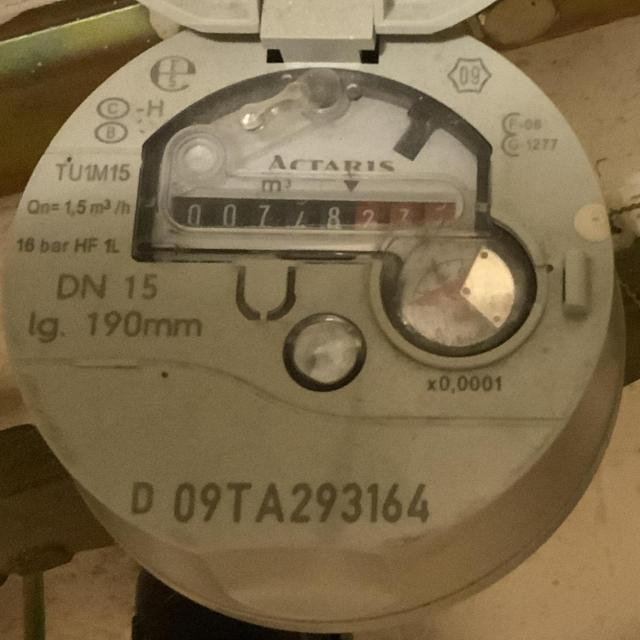gaz_meter: (11, 16, 614, 548)
indication: (169, 194, 457, 239)
